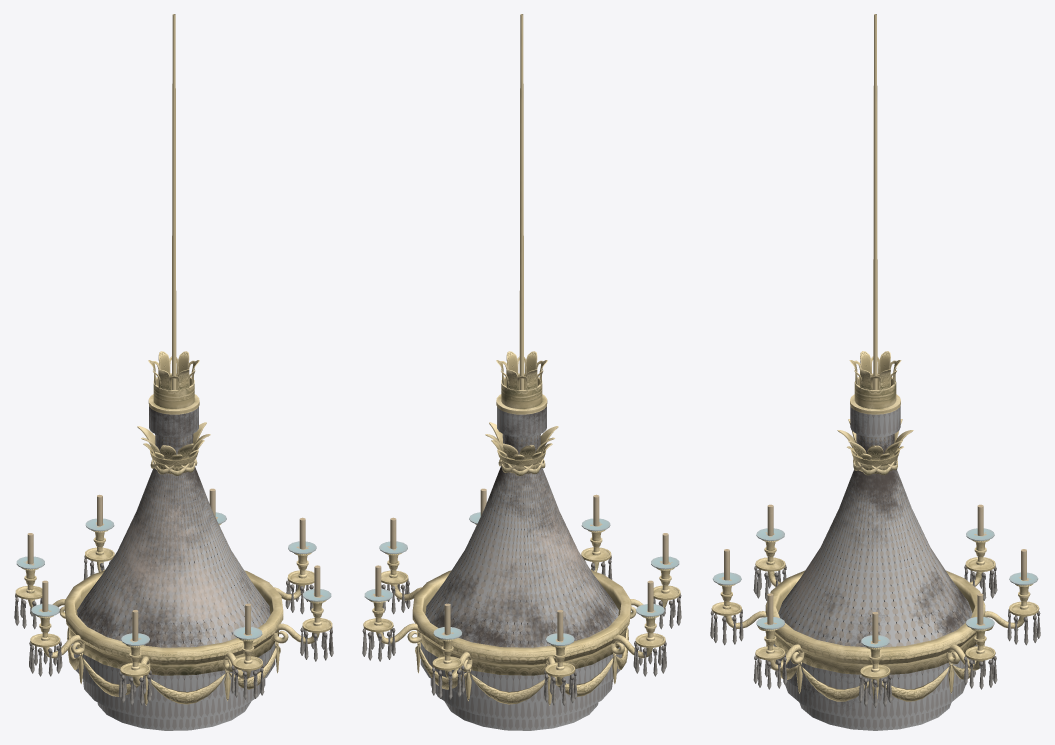
Rendered from SM_LusteBossRoom.fbx.
The picture shows the model from 3 angles, left to right: view 1: azimuth 30°, elevation 25°; view 2: azimuth 150°, elevation 25°; view 3: azimuth 270°, elevation 25°; orthographic projection.
Parts seen in each view (by area): view 1: SM_LusteBossRoom; view 2: SM_LusteBossRoom; view 3: SM_LusteBossRoom.
Boxes of the visible parts, x1,y1,x2,y2 form: SM_LusteBossRoom: [14, 14, 333, 730]; SM_LusteBossRoom: [362, 14, 681, 730]; SM_LusteBossRoom: [710, 14, 1040, 730].
Size of the model in its own units: 106 by 249 by 106.
